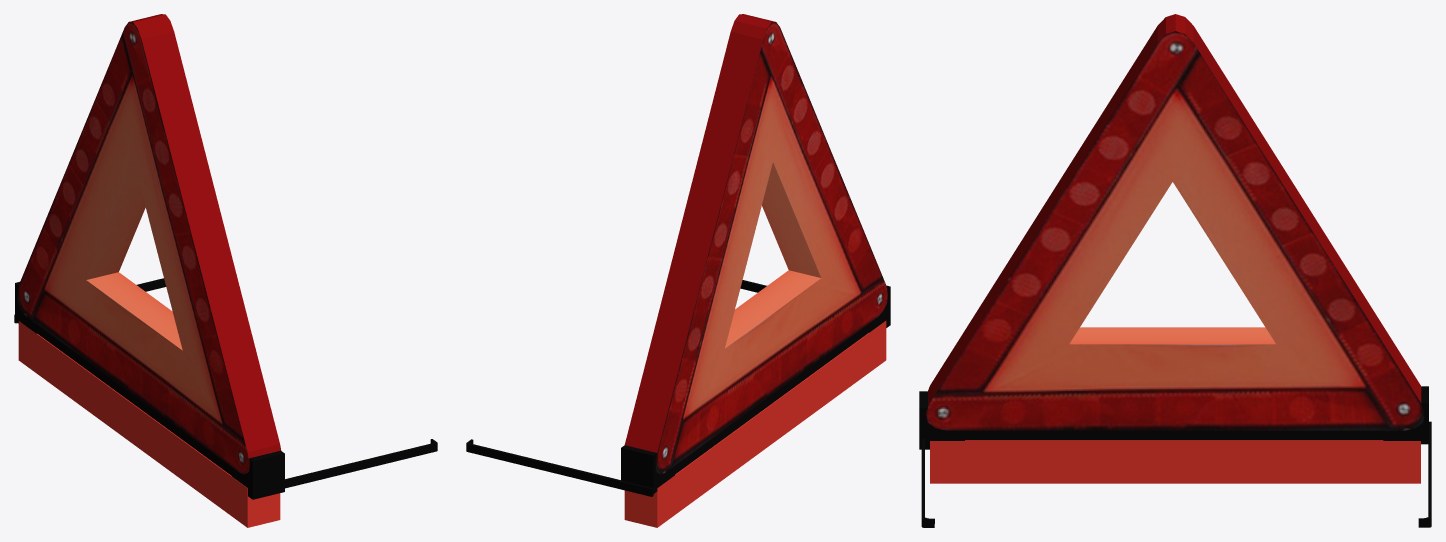
File: WorldItem_RoadsideTriangle.fbx
The picture shows the model from 3 angles, left to right: view 1: azimuth 30°, elevation 25°; view 2: azimuth 150°, elevation 25°; view 3: azimuth 270°, elevation 25°; orthographic projection. The views are drawn at different scales.
Parts seen in each view (by area): view 1: RoadsideTriangle; view 2: RoadsideTriangle; view 3: RoadsideTriangle.
Part boxes in pixels (bbox=[...]): RoadsideTriangle: bbox=[14, 14, 437, 527]; RoadsideTriangle: bbox=[466, 14, 890, 527]; RoadsideTriangle: bbox=[919, 14, 1431, 527].
Bounding box in the file's own units: 0.149 × 0.3209 × 0.329.
